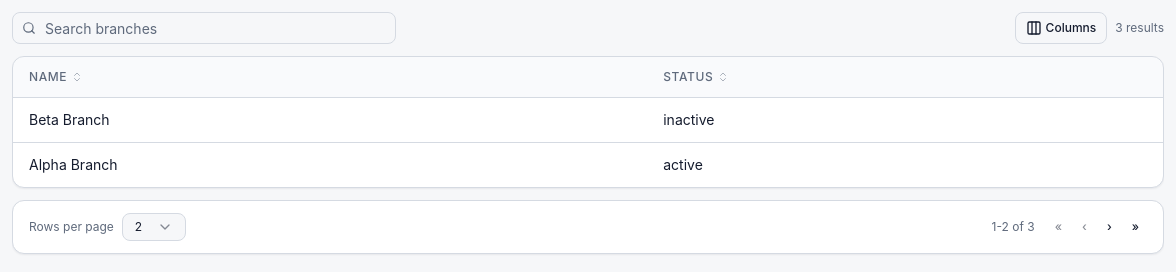
Test: StandardTable › sorts and paginates client-side rows
Click the text "Name". click: (56, 77)
box: [29, 69, 83, 85]
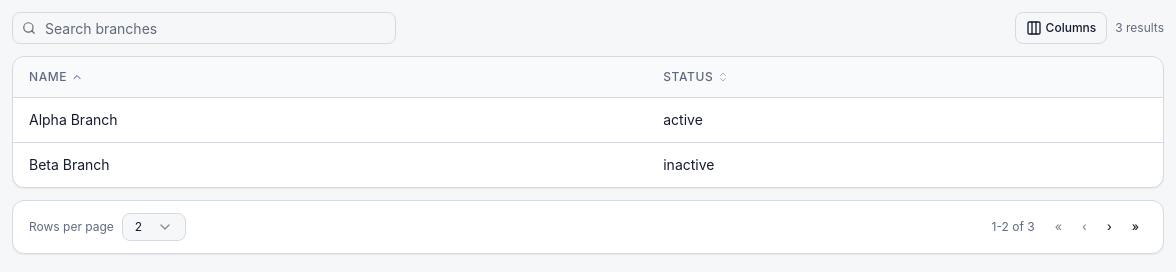
Expected: the cells read "Alpha Branch", "active", "Beta Branch", "inactive", in this order, [13, 98, 647, 142]; [647, 98, 1163, 142]; [13, 142, 647, 187]; [647, 142, 1163, 187]
Click the button named "Next page". click: (1109, 227)
box: [1099, 213, 1120, 241]
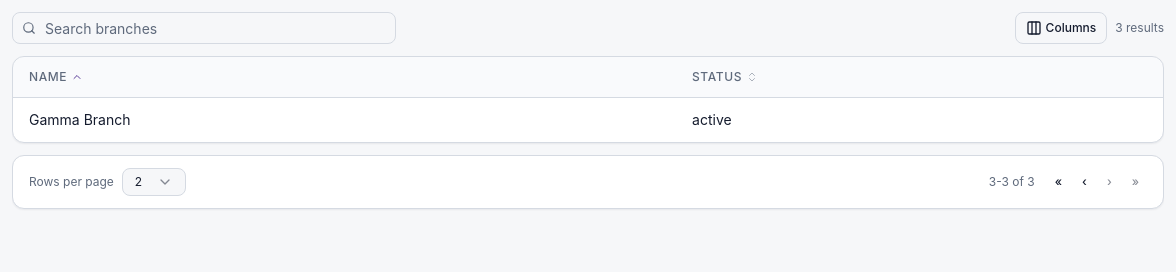
Expected: the text "Gamma Branch" is shown, [13, 98, 676, 142]
Expected: the text "Alpha Branch" is gone
